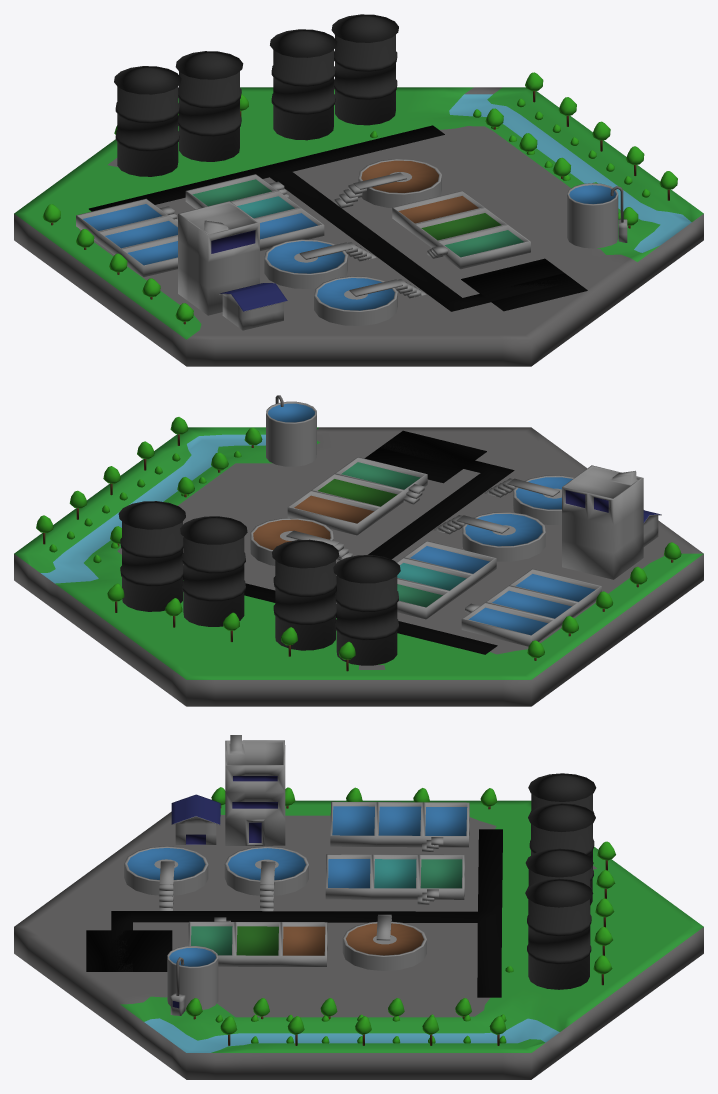
Rendered from Water_Manager.fbx.
The picture shows the model from 3 angles, top to bottom: view 1: azimuth 30°, elevation 25°; view 2: azimuth 150°, elevation 25°; view 3: azimuth 270°, elevation 25°; orthographic projection.
Parts seen in each view (by area): view 1: Cylinder.002; view 2: Cylinder.002; view 3: Cylinder.002.
Part boxes in pixels (box(x1,y1,x2,y2)): Cylinder.002: box(14, 14, 703, 366); Cylinder.002: box(14, 395, 703, 706); Cylinder.002: box(14, 735, 703, 1079).
Size of the model in its own units: 116 by 100 by 22.49.
